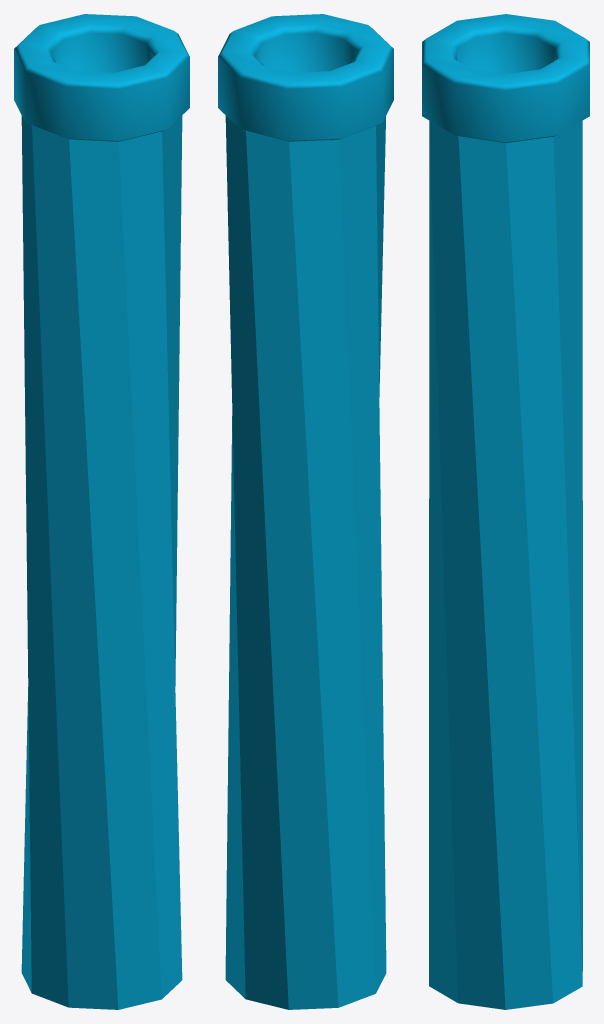
The model's file is pipe_bottom.fbx.
The picture shows the model from 3 angles, left to right: view 1: azimuth 30°, elevation 25°; view 2: azimuth 150°, elevation 25°; view 3: azimuth 270°, elevation 25°; orthographic projection.
Visible parts, largest first — view 1: pipe_bottom; view 2: pipe_bottom; view 3: pipe_bottom.
Part boxes in pixels (box(x1,y1,x2,y2)): pipe_bottom: box(14, 14, 189, 1009); pipe_bottom: box(218, 14, 393, 1009); pipe_bottom: box(422, 14, 589, 1009).
Bounding box in the file's own units: 9 × 52.14 × 8.56.
